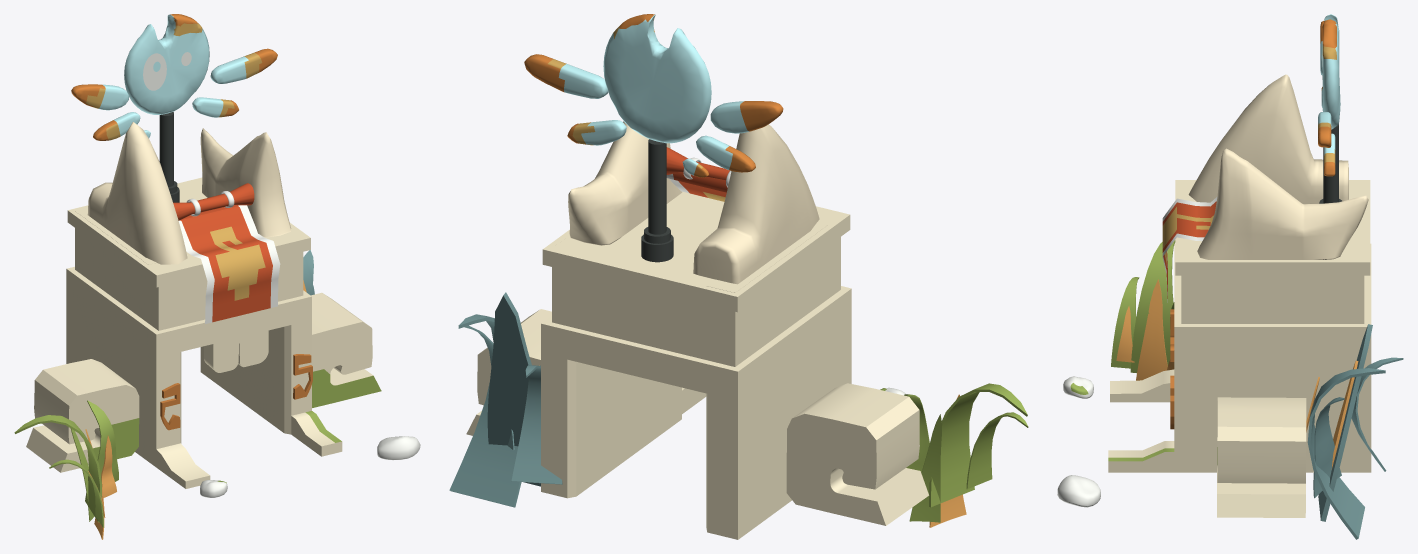
The model's file is Totem.fbx.
3 renders of one model, left to right at view 1: azimuth 30°, elevation 25°; view 2: azimuth 150°, elevation 25°; view 3: azimuth 270°, elevation 25°, orthographic. The views are drawn at different scales.
Visible parts, largest first — view 1: pDisc4; view 2: pDisc4; view 3: pDisc4.
Boxes of the visible parts, left/top/right/bottom form: pDisc4: left=14, top=14, right=420, bottom=539; pDisc4: left=449, top=14, right=1028, bottom=539; pDisc4: left=1057, top=14, right=1403, bottom=539.
Bounding box in the file's own units: 12.05 × 12.58 × 8.56.
